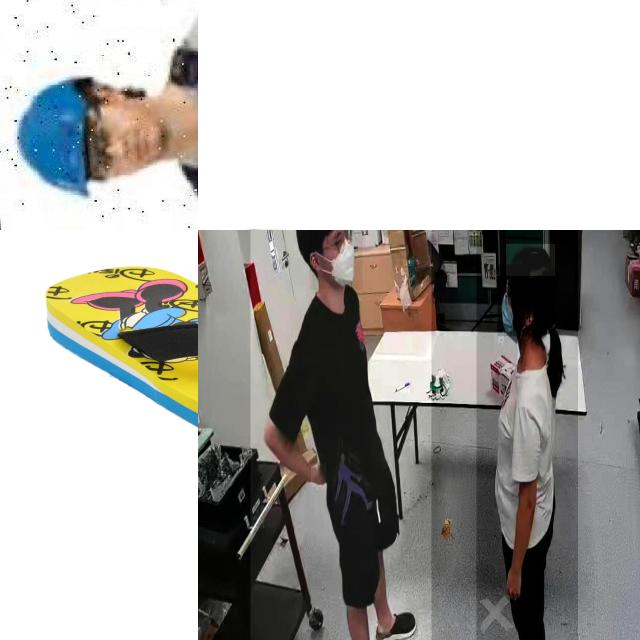Sandals: (44, 264, 198, 458)
face_mask: (309, 230, 362, 289), (498, 264, 530, 336)
hand_noglove: (504, 563, 522, 600), (311, 463, 327, 488)
head_nohelmet: (506, 244, 556, 277)
person: (250, 230, 431, 640), (476, 230, 578, 640)
shoes: (374, 603, 420, 640)
